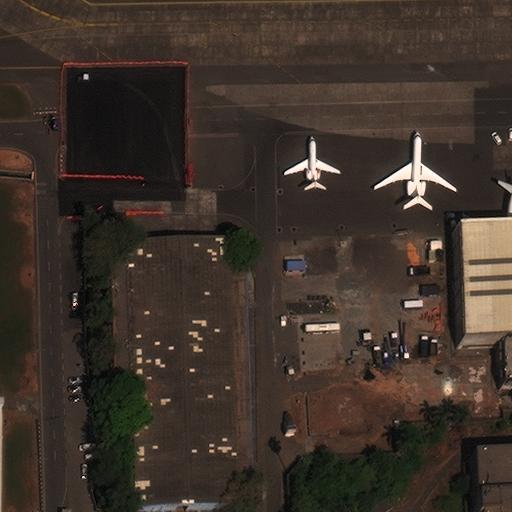Medium Civil Transport: (373, 132, 456, 203), (284, 136, 340, 188)
